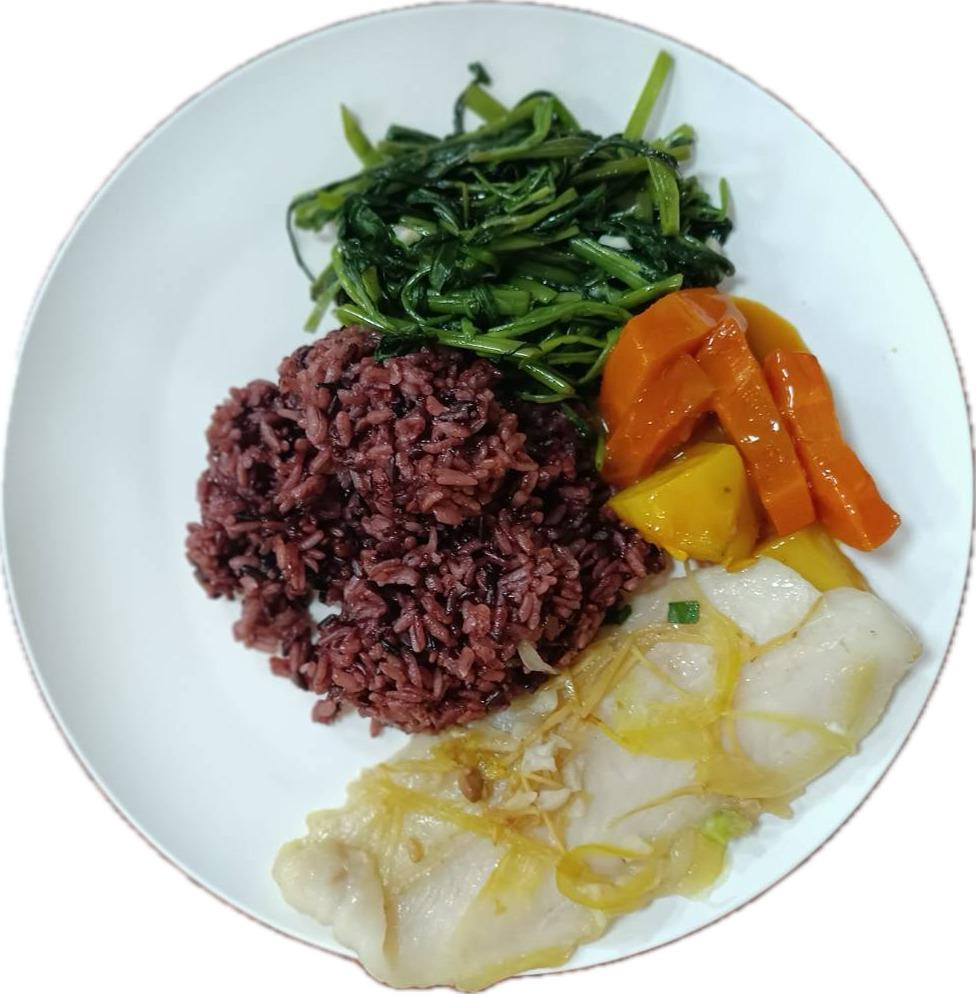big fried chicken leg: (6, 6, 976, 994)
braised fish: (178, 328, 635, 728)
braised fish fillet: (286, 66, 742, 376), (598, 276, 895, 565)
braised pork ribs: (271, 518, 924, 987)
